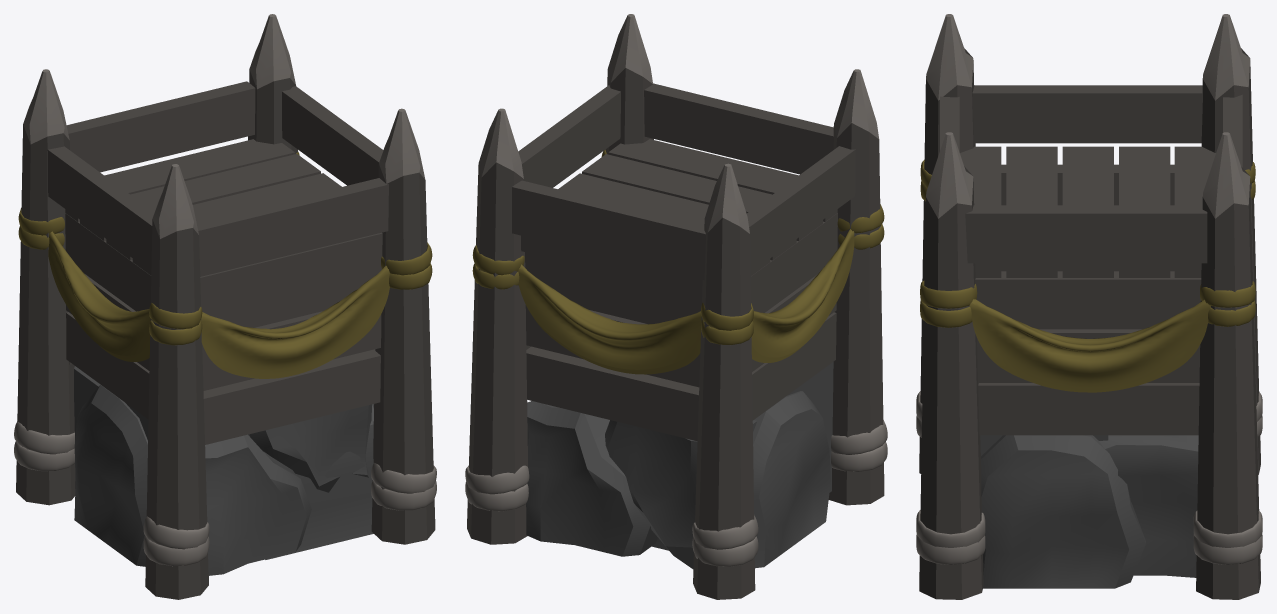
File: fence2-1.fbx
The picture shows the model from 3 angles, left to right: view 1: azimuth 30°, elevation 25°; view 2: azimuth 150°, elevation 25°; view 3: azimuth 270°, elevation 25°; orthographic projection. The views are drawn at different scales.
Parts seen in each view (by area): view 1: polySurface932; view 2: polySurface932; view 3: polySurface932.
Boxes of the visible parts, x1=… form: polySurface932: x1=14, y1=14, x2=436, y2=599; polySurface932: x1=465, y1=14, x2=887, y2=599; polySurface932: x1=916, y1=14, x2=1262, y2=599.
Bounding box in the file's own units: 233 × 343 × 229.
